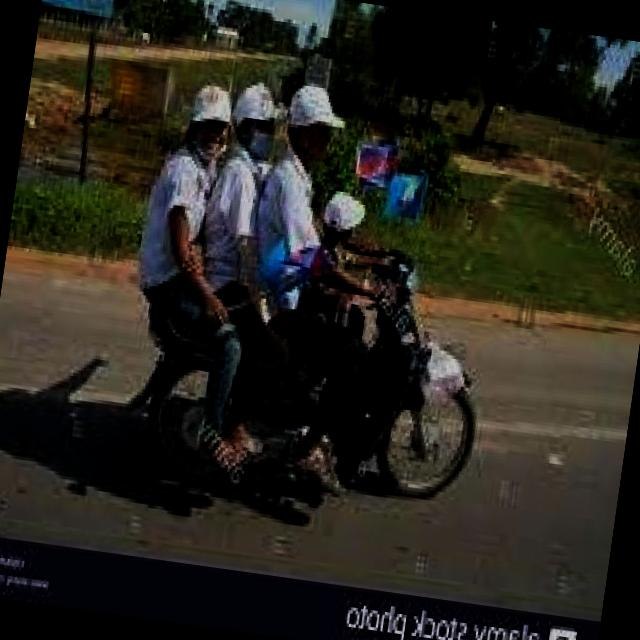motorcycle: (119, 206, 506, 526)
person: (110, 65, 260, 438), (235, 81, 354, 425), (175, 69, 298, 392), (282, 176, 386, 416)
rider_region: (104, 66, 526, 530)
